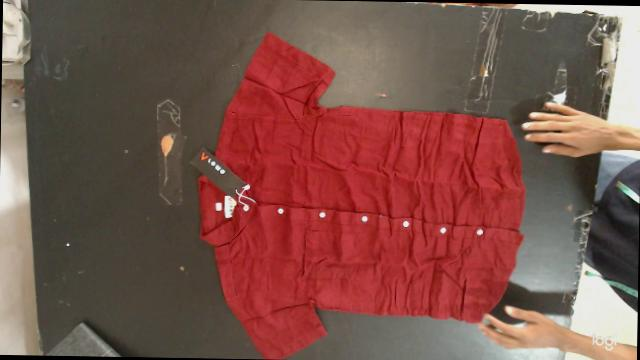new-garment: (195, 32, 525, 358)
